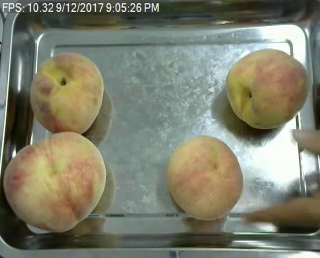Peach: (3, 132, 106, 231), (224, 47, 310, 129), (167, 135, 243, 219), (29, 52, 105, 133)
